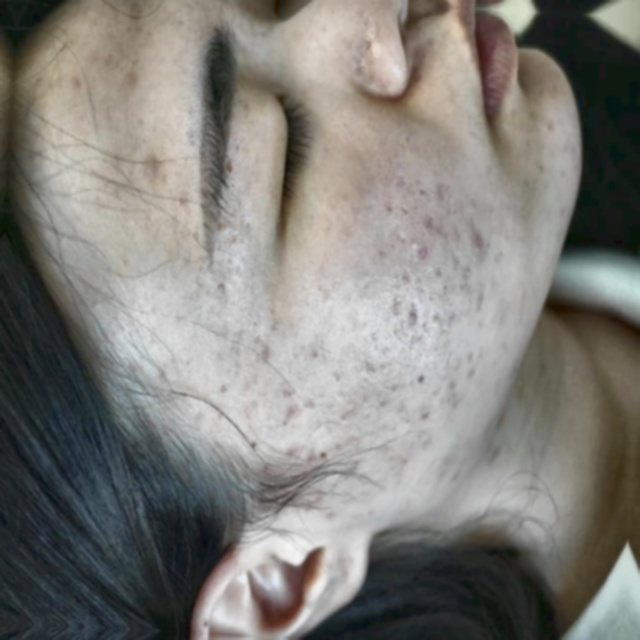comedone: (408, 400, 443, 448), (393, 297, 424, 342), (462, 229, 493, 266), (454, 362, 483, 396), (403, 229, 428, 268)
